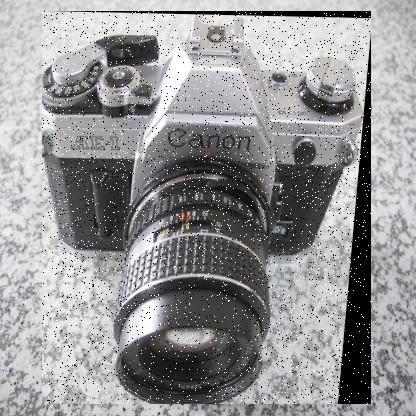Camera: (43, 12, 373, 406)
